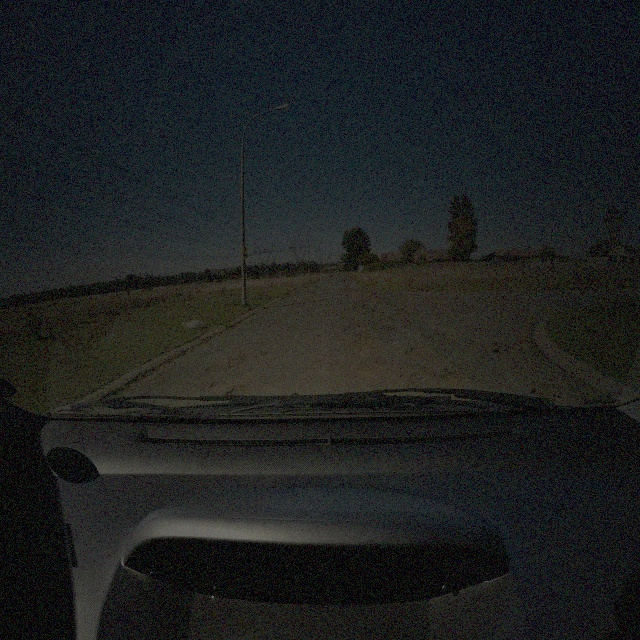pothole: (207, 349, 248, 374), (529, 378, 561, 404), (404, 344, 441, 361), (441, 371, 469, 388), (225, 384, 252, 400), (352, 336, 378, 351), (492, 342, 514, 359), (408, 371, 429, 384), (358, 361, 382, 372), (399, 317, 417, 328), (340, 306, 358, 317), (397, 304, 415, 312)
